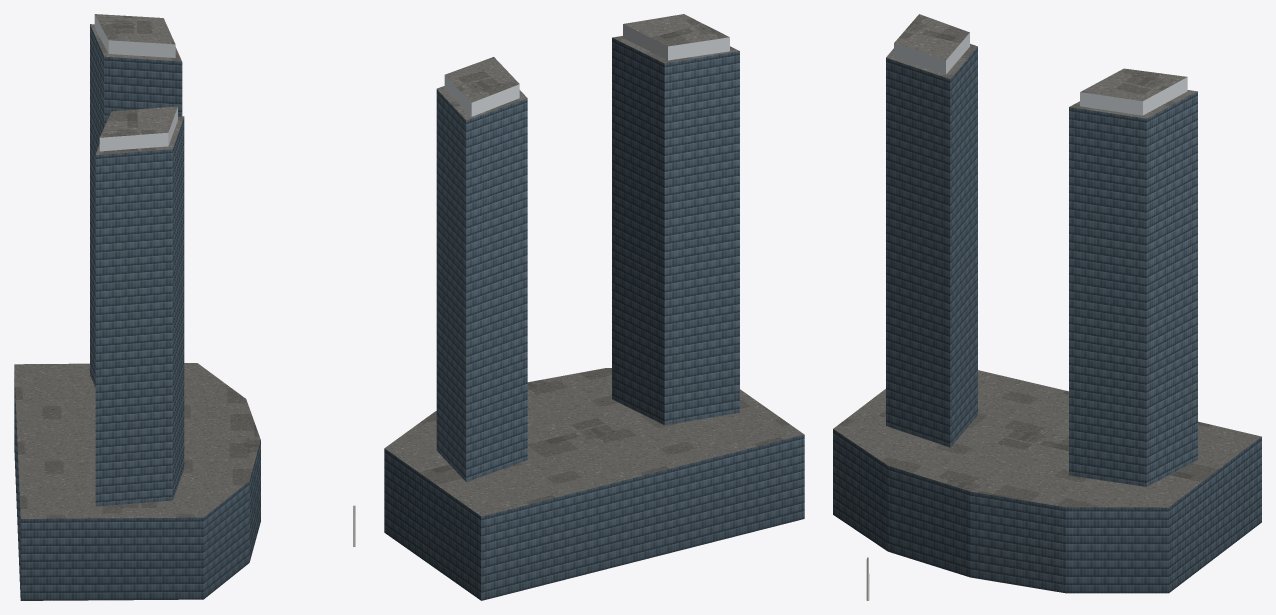
The model's file is dbc.glb.
3 renders of one model, left to right at view 1: azimuth 30°, elevation 25°; view 2: azimuth 150°, elevation 25°; view 3: azimuth 270°, elevation 25°, orthographic. The views are drawn at different scales.
Parts seen in each view (by area): view 1: dbc; view 2: dbc; view 3: dbc.
Boxes of the visible parts, x1,y1,x2,y2 form: dbc: (14, 14, 355, 600); dbc: (384, 14, 804, 600); dbc: (833, 14, 1261, 600).
Bounding box in the file's own units: 165 × 229 × 190.
11 materials, 9 textured.
